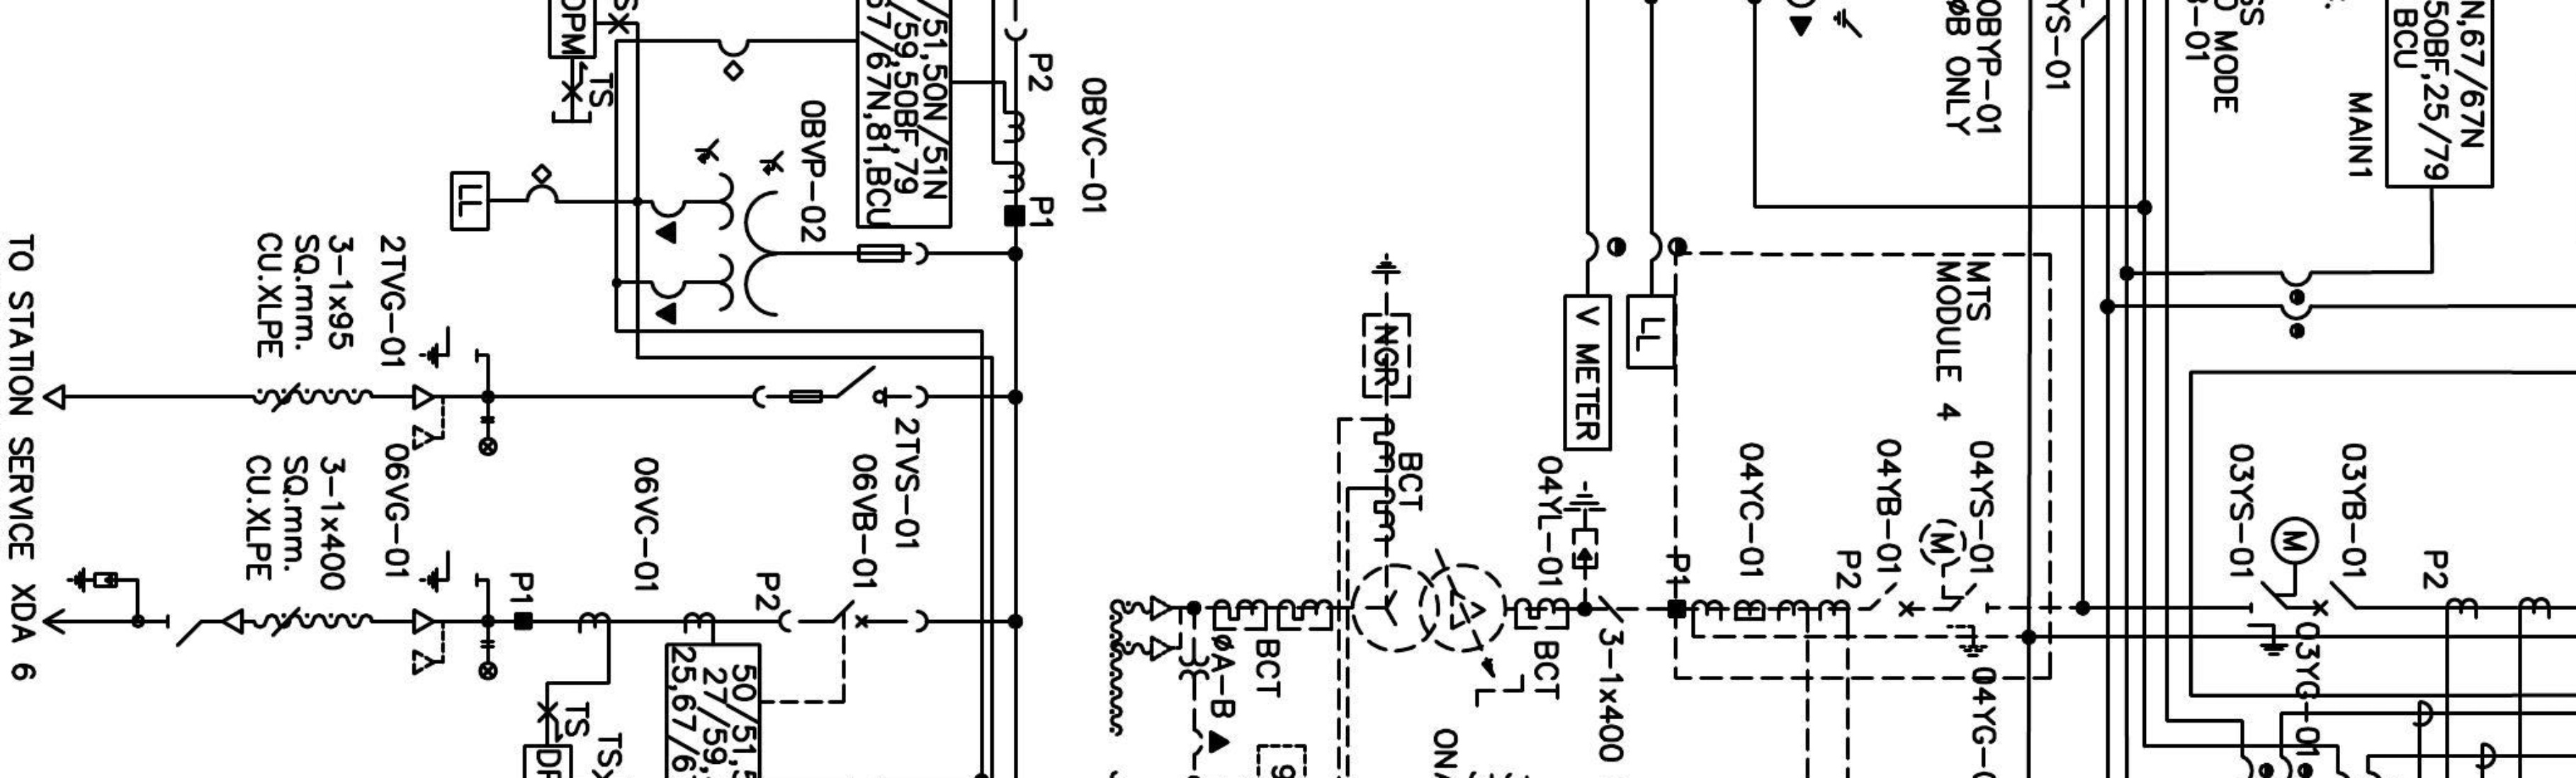115_3ways_ds_w_motor: (2246, 515, 2321, 658)
115_breaker: (2311, 579, 2357, 617)
115_ds: (2080, 3, 2106, 41)
22_breaker: (777, 597, 930, 634)
22_ds: (752, 364, 930, 410)
22_ds_la_out: (41, 565, 202, 648)
22_gs: (419, 323, 480, 371), (417, 548, 480, 594)
22_ll: (478, 415, 499, 458), (478, 640, 498, 681)
22_vt_3p: (649, 136, 930, 327)
LL: (1625, 294, 1677, 371), (448, 171, 491, 231)
terminator_single: (41, 382, 66, 412), (220, 607, 245, 637)
terminator_w_future: (411, 607, 445, 678), (411, 382, 445, 451)
v_m_digital: (1562, 292, 1613, 451)
